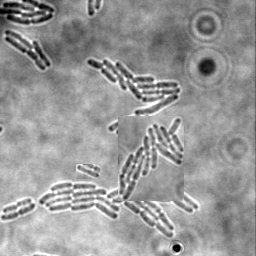Dividing: (1, 204, 37, 222), (3, 199, 33, 215)
Microcolony: (40, 167, 199, 238), (87, 59, 181, 136), (118, 116, 184, 201), (5, 30, 52, 72), (1, 1, 56, 26)
Rod: (76, 164, 100, 179)
